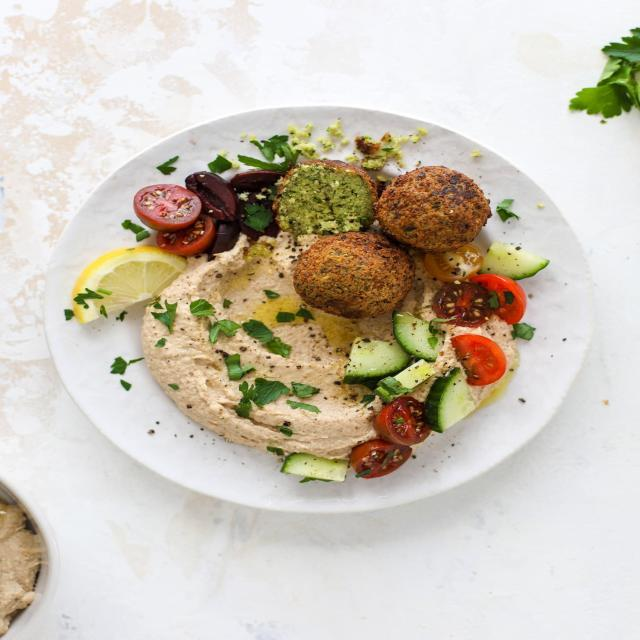flafel: (374, 165, 490, 252), (301, 231, 413, 313), (275, 160, 380, 240)
